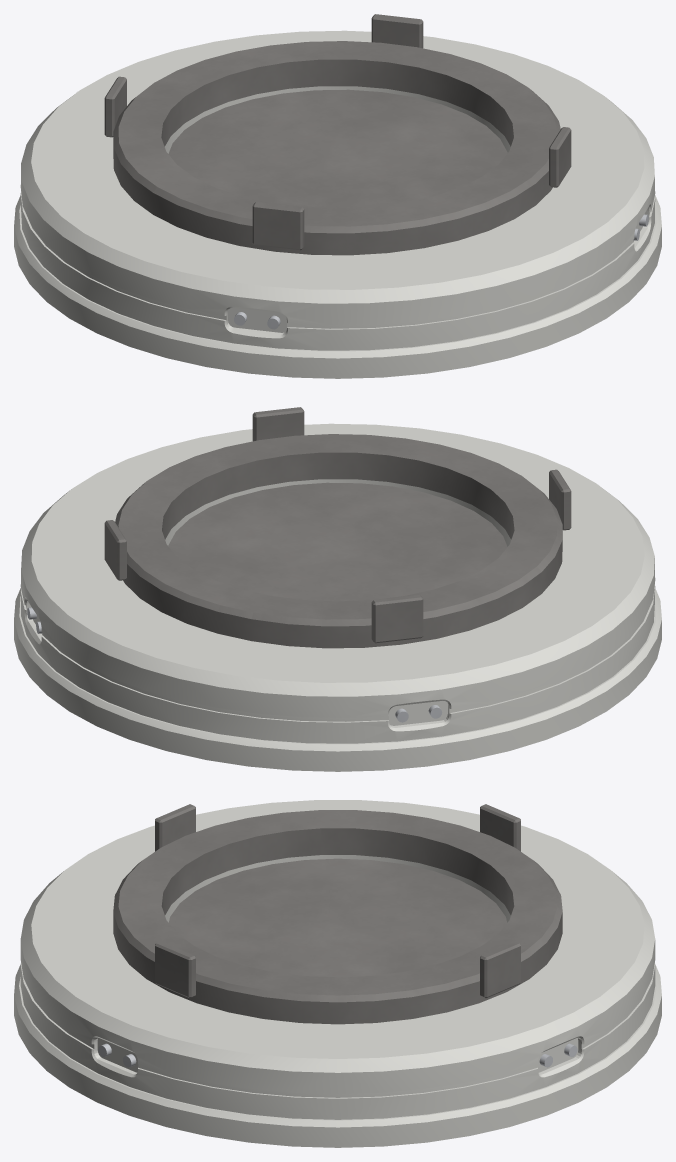
The model's file is ax_util_05_heavy_port.glb.
3 renders of one model, top to bottom at view 1: azimuth 30°, elevation 25°; view 2: azimuth 150°, elevation 25°; view 3: azimuth 270°, elevation 25°, orthographic.
Parts seen in each view (by area): view 1: port_body, capture_ring, hatch_door_1, mount_ring, guide_petals; view 2: port_body, capture_ring, hatch_door_1, mount_ring, guide_petals; view 3: port_body, capture_ring, hatch_door_1, mount_ring, guide_petals, fluid_couplers.
Part boxes in pixels (x1=…): port_body: x1=20, y1=30, x2=655, y2=350; capture_ring: x1=113, y1=41, x2=560, y2=255; hatch_door_1: x1=168, y1=89, x2=507, y2=208; mount_ring: x1=14, y1=195, x2=661, y2=378; guide_petals: x1=104, y1=14, x2=571, y2=250; port_body: x1=20, y1=423, x2=655, y2=743; capture_ring: x1=115, y1=434, x2=562, y2=648; hatch_door_1: x1=168, y1=482, x2=507, y2=601; mount_ring: x1=14, y1=588, x2=661, y2=771; guide_petals: x1=104, y1=407, x2=571, y2=643; port_body: x1=20, y1=800, x2=655, y2=1119; capture_ring: x1=113, y1=810, x2=562, y2=1024; hatch_door_1: x1=168, y1=858, x2=507, y2=977; mount_ring: x1=14, y1=964, x2=661, y2=1147; guide_petals: x1=155, y1=804, x2=520, y2=998; fluid_couplers: x1=98, y1=1043, x2=577, y2=1067.
Bounding box in the file's own units: 3.75 × 0.83 × 3.75.
3 materials, 2 textured.
